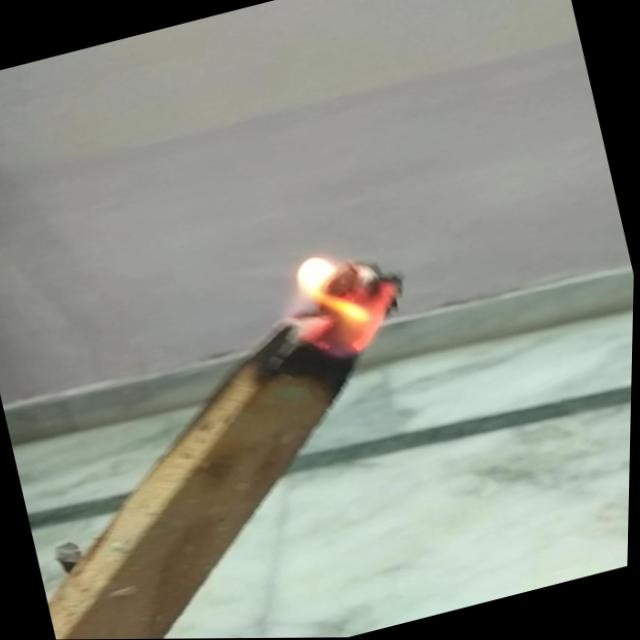fire: (262, 224, 420, 380)
